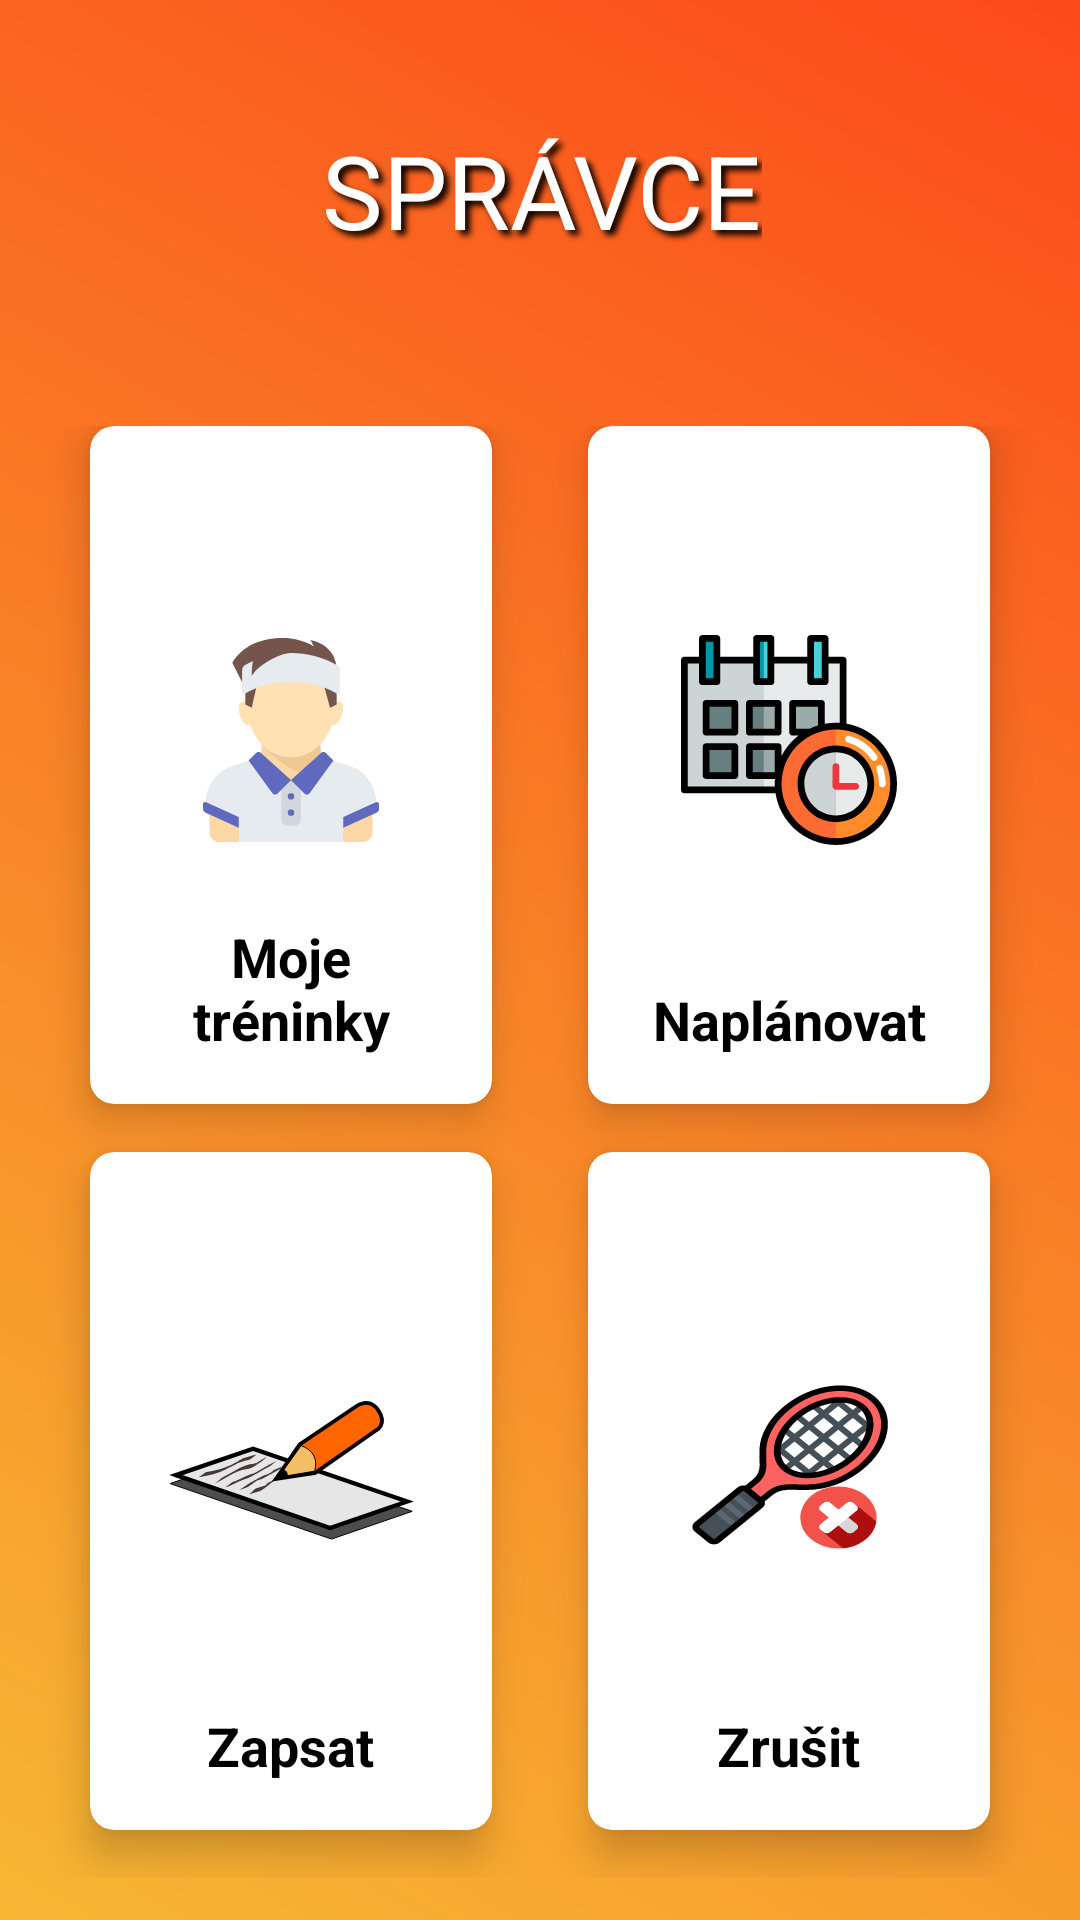

Named icons in this screenshot (1080px×1920px) and their bounding boxes, rect(x1, y1, x2, y2):
write: rect(170, 1401, 414, 1540)
